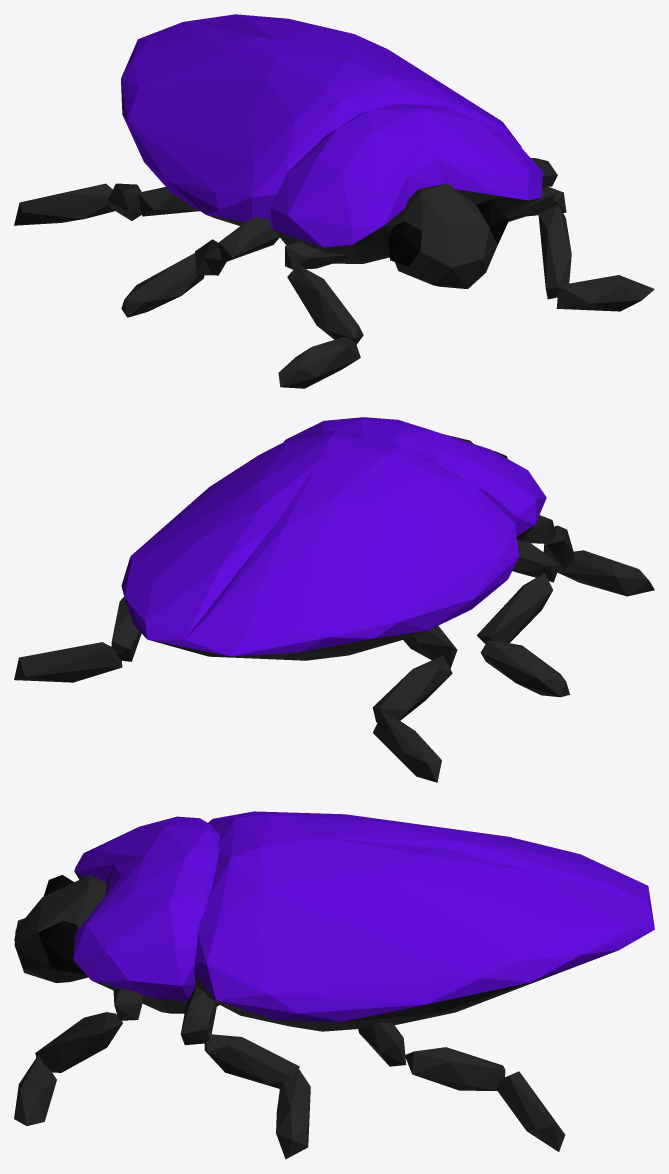
The model's file is splat.fbx.
3 renders of one model, top to bottom at view 1: azimuth 30°, elevation 25°; view 2: azimuth 150°, elevation 25°; view 3: azimuth 270°, elevation 25°, orthographic. The views are drawn at different scales.
Parts seen in each view (by area): view 1: splat; view 2: splat; view 3: splat.
Boxes of the visible parts, <box> form: splat: <box>14,14,654,388</box>; splat: <box>14,417,654,782</box>; splat: <box>14,811,654,1159</box>.
Bounding box in the file's own units: 283 × 323 × 118.
